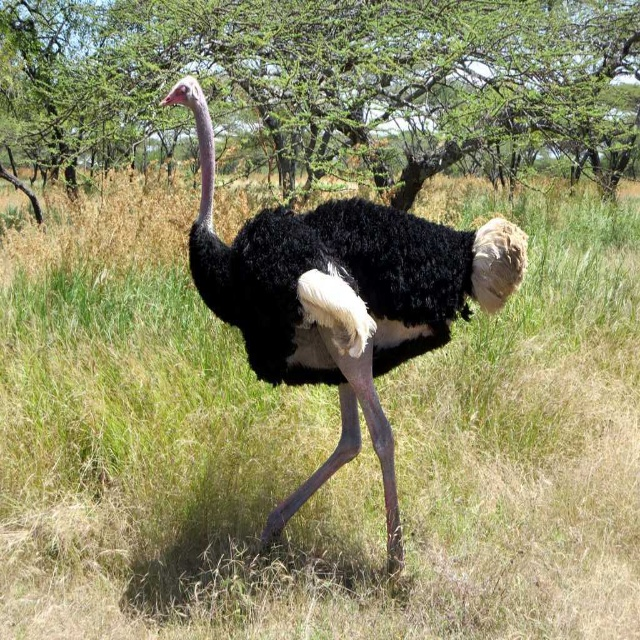Ostrich: (158, 74, 529, 577)
